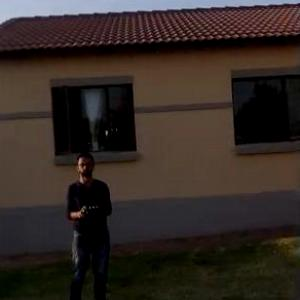follow: (62, 145, 119, 299)
